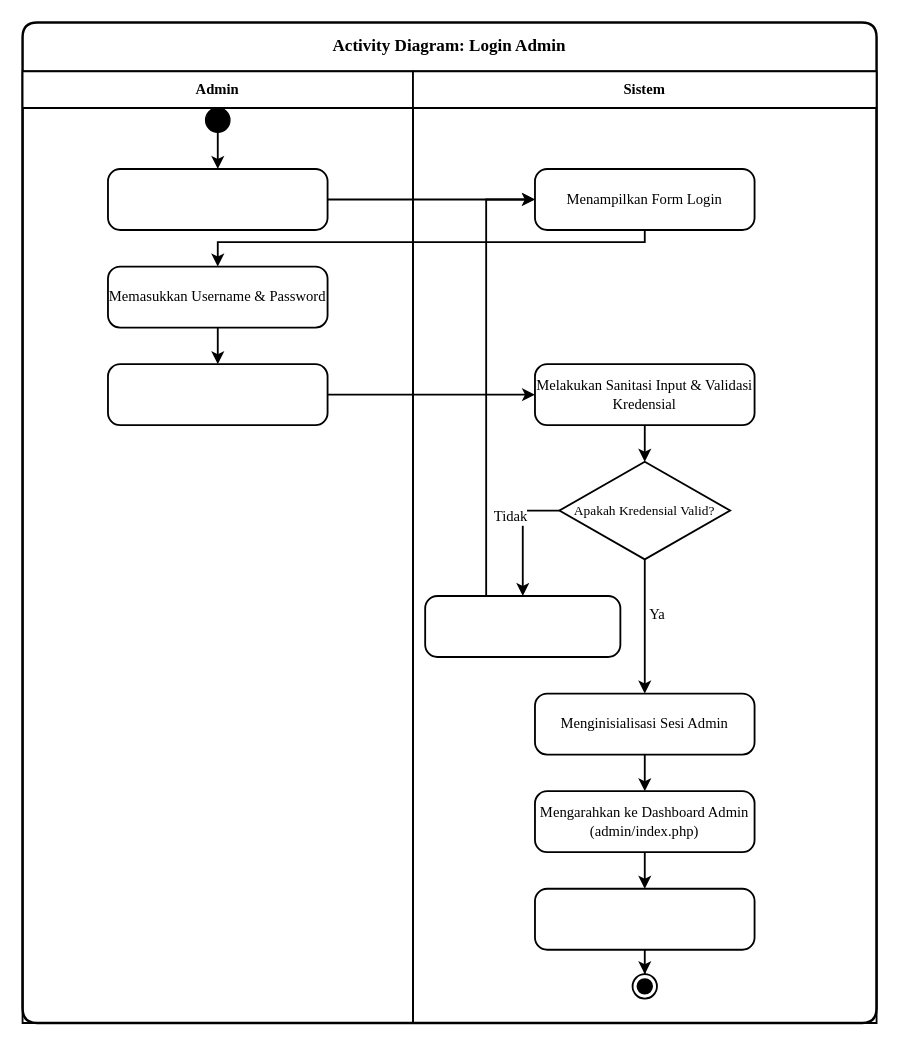
This 898x1044 diagram has some shape labels left out. Each missing label, with the centre of its shape:
"Menampilkan Pesan Kesalahan" belongs at point 522,626.
"Menekan Tombol Login" belongs at point 217,394.
"Mengakses halaman login.php" belongs at point 217,199.
"Sistem Memuat Panel Dashboard" belongs at point 644,918.
